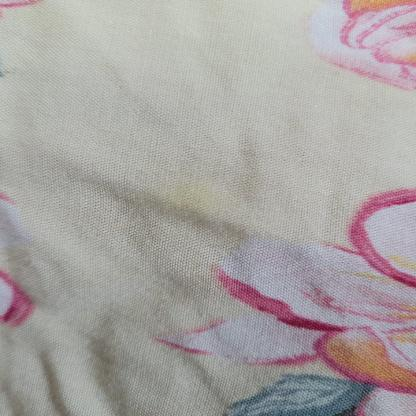spot: (147, 174, 244, 222)
